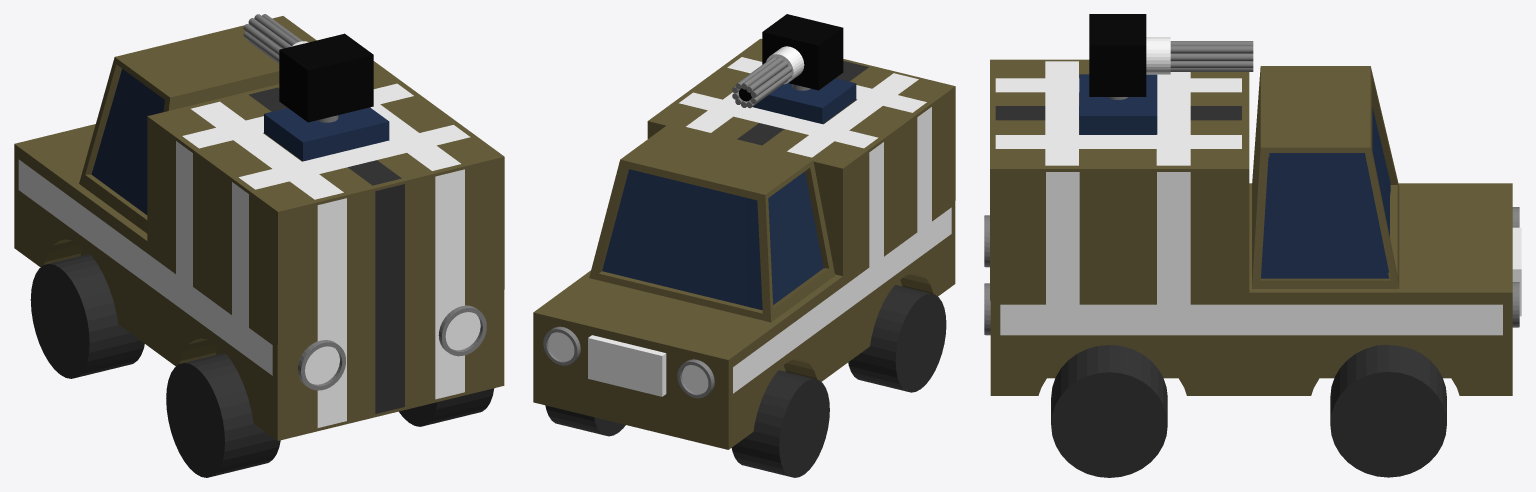
Rendered from chevro.fbx.
3 renders of one model, left to right at view 1: azimuth 30°, elevation 25°; view 2: azimuth 150°, elevation 25°; view 3: azimuth 270°, elevation 25°, orthographic. The views are drawn at different scales.
Parts seen in each view (by area): view 1: Cube; view 2: Cube; view 3: Cube.
Boxes of the visible parts, x1=… form: Cube: x1=14, y1=14, x2=504, y2=477; Cube: x1=533, y1=14, x2=955, y2=477; Cube: x1=984, y1=14, x2=1521, y2=477.
Bounding box in the file's own units: 2.37 × 3.26 × 4.15.
